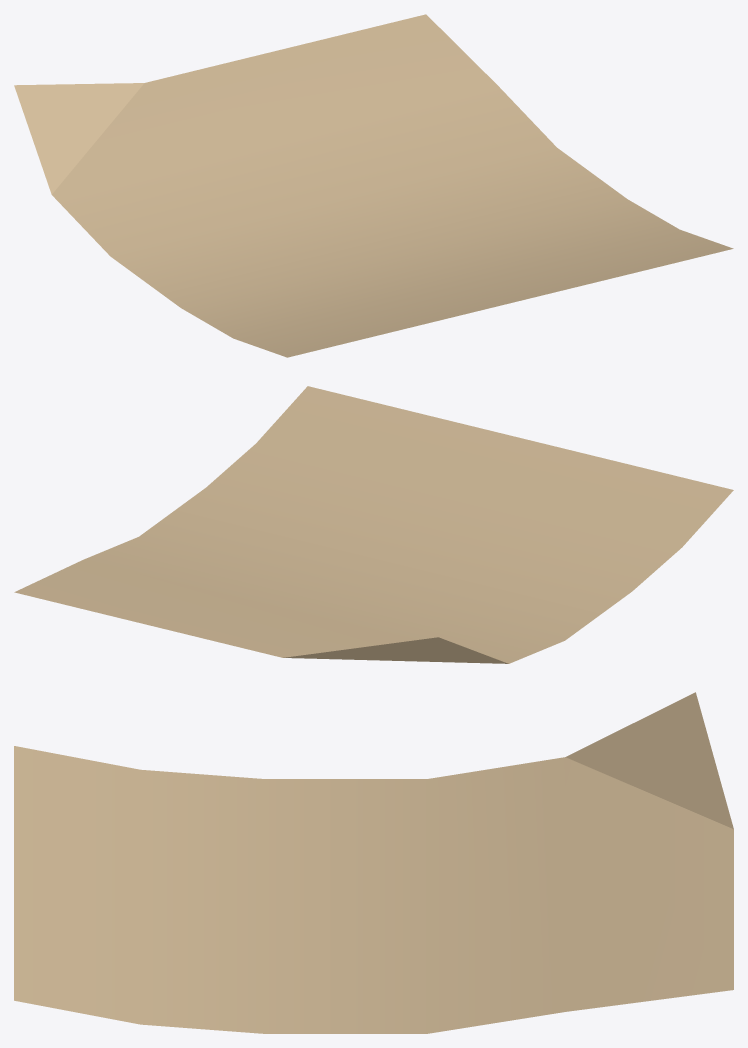
The model's file is dirty note.fbx.
3 renders of one model, top to bottom at view 1: azimuth 30°, elevation 25°; view 2: azimuth 150°, elevation 25°; view 3: azimuth 270°, elevation 25°, orthographic. The views are drawn at different scales.
Parts seen in each view (by area): view 1: dirty note; view 2: dirty note; view 3: dirty note.
Boxes of the visible parts, x1=… form: dirty note: x1=14, y1=14, x2=733, y2=357; dirty note: x1=14, y1=386, x2=733, y2=663; dirty note: x1=14, y1=692, x2=733, y2=1033.
Bounding box in the file's own units: 0.2282 × 0.0406 × 0.2724.
